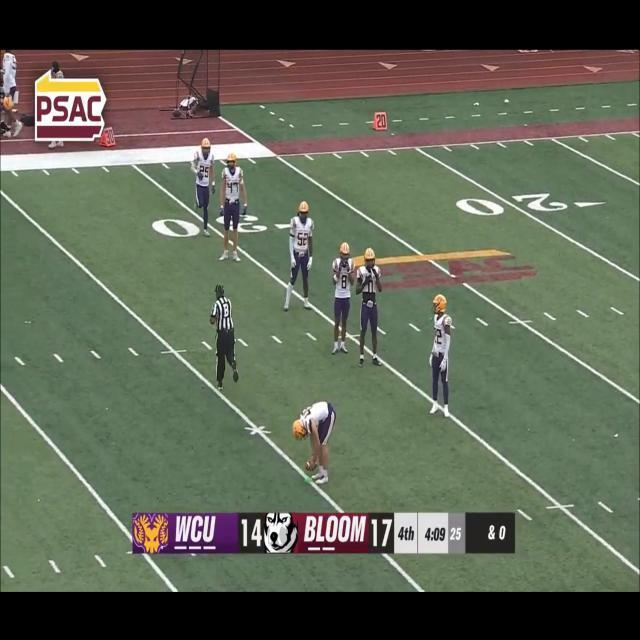football: (304, 456, 320, 475)
